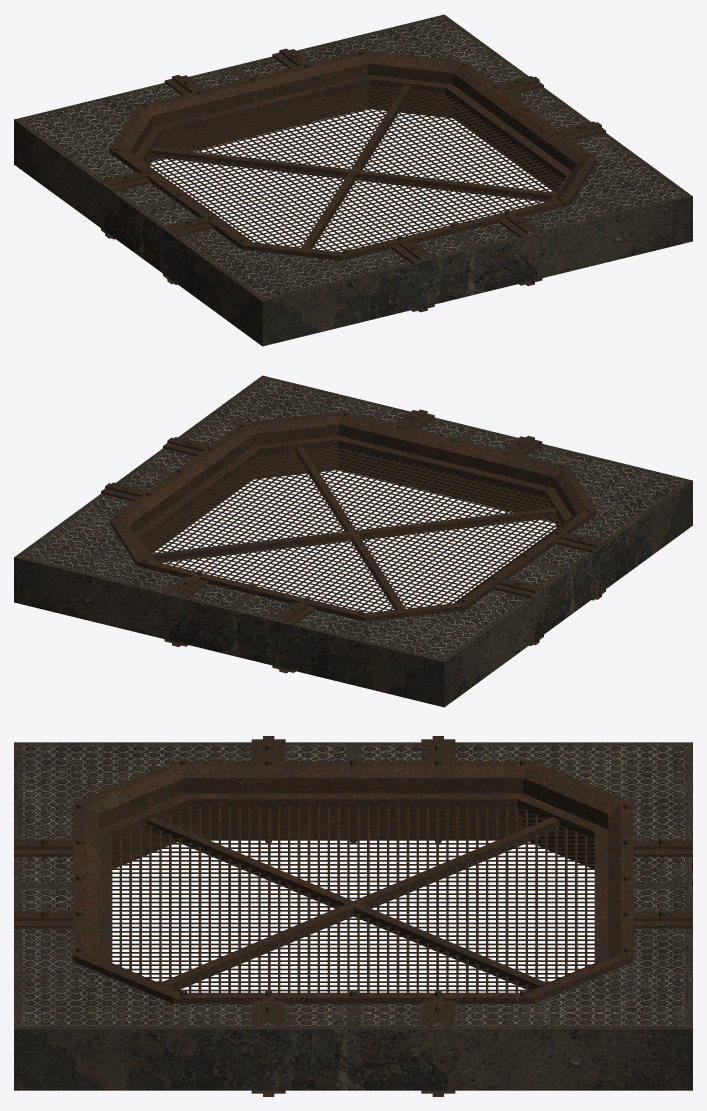
File: floor_ceiling_rtx_2.glb
3 renders of one model, top to bottom at view 1: azimuth 30°, elevation 25°; view 2: azimuth 150°, elevation 25°; view 3: azimuth 270°, elevation 25°, orthographic. The views are drawn at different scales.
Visible parts, largest first — view 1: floor_ceiling_rtx_2, floor_ceiling_rtx_2_panel_child; view 2: floor_ceiling_rtx_2, floor_ceiling_rtx_2_panel_child; view 3: floor_ceiling_rtx_2, floor_ceiling_rtx_2_panel_child.
Boxes of the visible parts, x1,y1,x2,y2 form: floor_ceiling_rtx_2: (14,14,692,346); floor_ceiling_rtx_2_panel_child: (135,74,571,251); floor_ceiling_rtx_2: (14,375,692,707); floor_ceiling_rtx_2_panel_child: (135,435,571,612); floor_ceiling_rtx_2: (14,736,692,1096); floor_ceiling_rtx_2_panel_child: (99,793,607,992).
Bounding box in the file's own units: 4 × 0.5303 × 4.
Materials: 4 (4 with a texture image).
